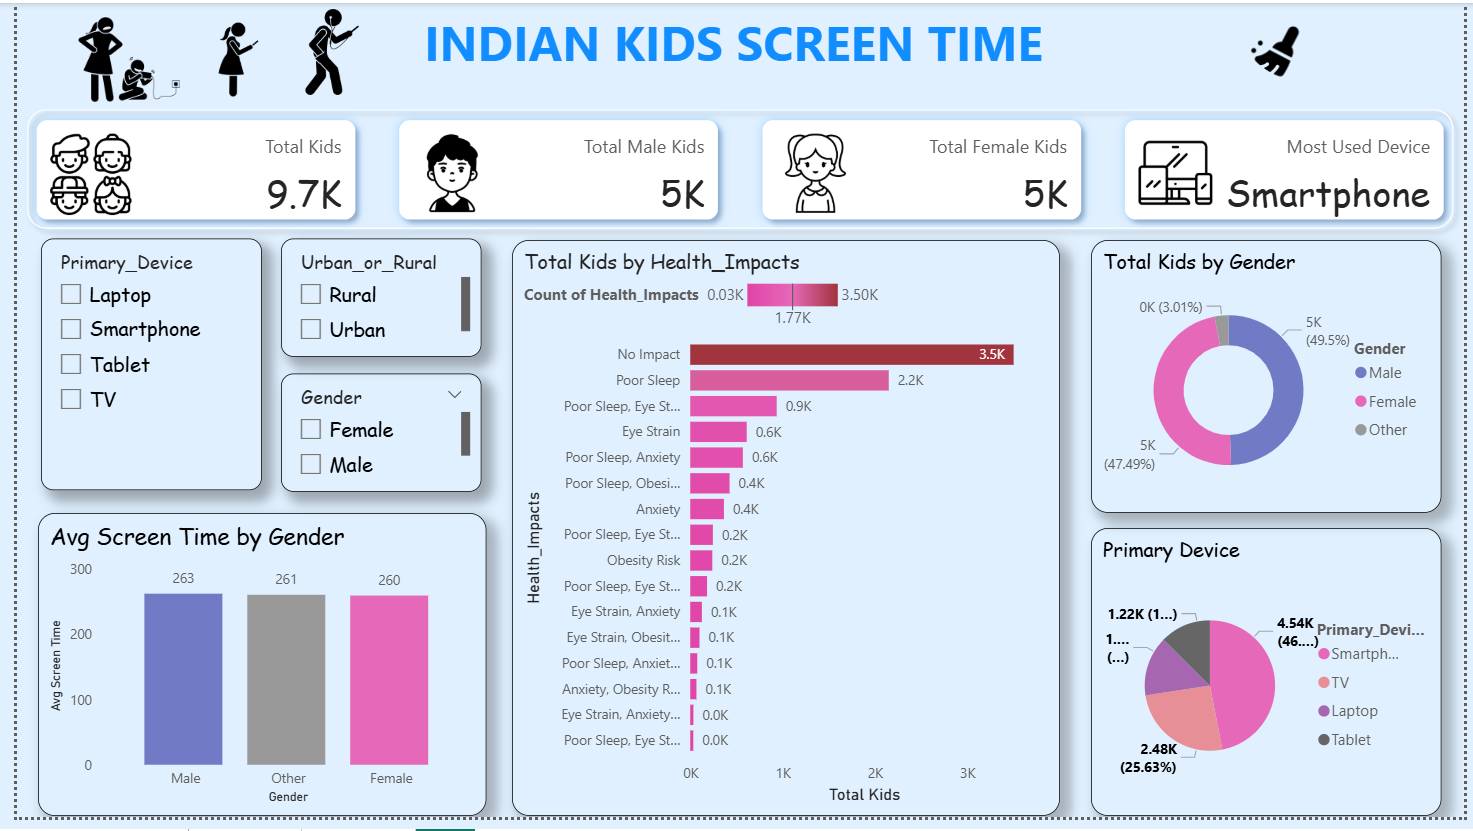

This screenshot's page, from the dashboard's own definition file:
{"tool":"powerbi","page":{"name":"Page 1","canvas":[1280,720],"ordinal":0},"visuals":[{"type":"cardVisual","fields":{"Data":["Indian_Kids_Screen_Time_Final.Total Kids","Indian_Kids_Screen_Time_Final.Total Male Kids","Indian_Kids_Screen_Time_Final.Total Female Kids","Indian_Kids_Screen_Time_Final.Most Used Device"]},"box":[0,86.2,1280.4,122.1],"z":0},{"type":"columnChart","fields":{"Y":["Indian_Kids_Screen_Time_Final.Avg Screen Time"],"Category":["Indian_Kids_Screen_Time_Final.Gender"]},"box":[18.2,451.2,396.7,268],"z":1000},{"type":"slicer","fields":{"Values":["Indian_Kids_Screen_Time_Final.Primary_Device"]},"box":[21.2,209,195.3,222.6],"z":2000},{"type":"pieChart","title":"Primary Device","fields":{"Category":["Indian_Kids_Screen_Time_Final.Primary_Device"],"Y":["CountNonNull(Indian_Kids_Screen_Time_Final.Primary_Device)"]},"box":[950.5,464.3,310,254.7],"z":3000},{"type":"textbox","box":[0,0,1279.5,86.3],"z":4000},{"type":"shape","box":[0,84.4,1279.4,123.7],"z":5000},{"type":"donutChart","fields":{"Category":["Indian_Kids_Screen_Time_Final.Gender"],"Y":["Indian_Kids_Screen_Time_Final.Total Kids"]},"box":[950.5,209.6,310,241.6],"z":6000},{"type":"barChart","fields":{"Category":["Indian_Kids_Screen_Time_Final.Health_Impacts"],"Y":["Indian_Kids_Screen_Time_Final.Total Kids"]},"box":[438.1,209.6,484.7,509.4],"z":7000},{"type":"slicer","fields":{"Values":["Indian_Kids_Screen_Time_Final.Gender"]},"box":[233.2,327.1,177.2,104.5],"z":8000},{"type":"slicer","fields":{"Values":["Indian_Kids_Screen_Time_Final.Urban_or_Rural"]},"box":[233.2,209,177.2,104.5],"z":9000},{"type":"image","box":[234.7,0,87.8,86.3],"z":10000},{"type":"image","box":[157.5,0,75.7,99.9],"z":11000},{"type":"image","box":[40.9,0,116.6,99.9],"z":12000},{"type":"image","box":[1080,10.2,68.4,65.5],"z":13000}]}

Visuals, with their boxes in screenshot pixels (x1, y1, x2, y2), scaled from the page's 1280x720 canvas onto the 1473x831 screenshot:
cardVisual - Indian_Kids_Screen_Time_Final.Total Kids x Indian_Kids_Screen_Time_Final.Total Male Kids: x1=0, y1=99, x2=1472, y2=240
columnChart - Indian_Kids_Screen_Time_Final.Avg Screen Time x Indian_Kids_Screen_Time_Final.Gender: x1=21, y1=521, x2=477, y2=830
slicer - Indian_Kids_Screen_Time_Final.Primary_Device: x1=24, y1=241, x2=249, y2=498
"Primary Device" pieChart: x1=1094, y1=536, x2=1451, y2=830
textbox: x1=0, y1=0, x2=1472, y2=100
shape: x1=0, y1=97, x2=1472, y2=240
donutChart - Indian_Kids_Screen_Time_Final.Gender x Indian_Kids_Screen_Time_Final.Total Kids: x1=1094, y1=242, x2=1451, y2=521
barChart - Indian_Kids_Screen_Time_Final.Health_Impacts x Indian_Kids_Screen_Time_Final.Total Kids: x1=504, y1=242, x2=1062, y2=830
slicer - Indian_Kids_Screen_Time_Final.Gender: x1=268, y1=378, x2=472, y2=498
slicer - Indian_Kids_Screen_Time_Final.Urban_or_Rural: x1=268, y1=241, x2=472, y2=362
image: x1=270, y1=0, x2=371, y2=100
image: x1=181, y1=0, x2=268, y2=115
image: x1=47, y1=0, x2=181, y2=115
image: x1=1243, y1=12, x2=1322, y2=87
